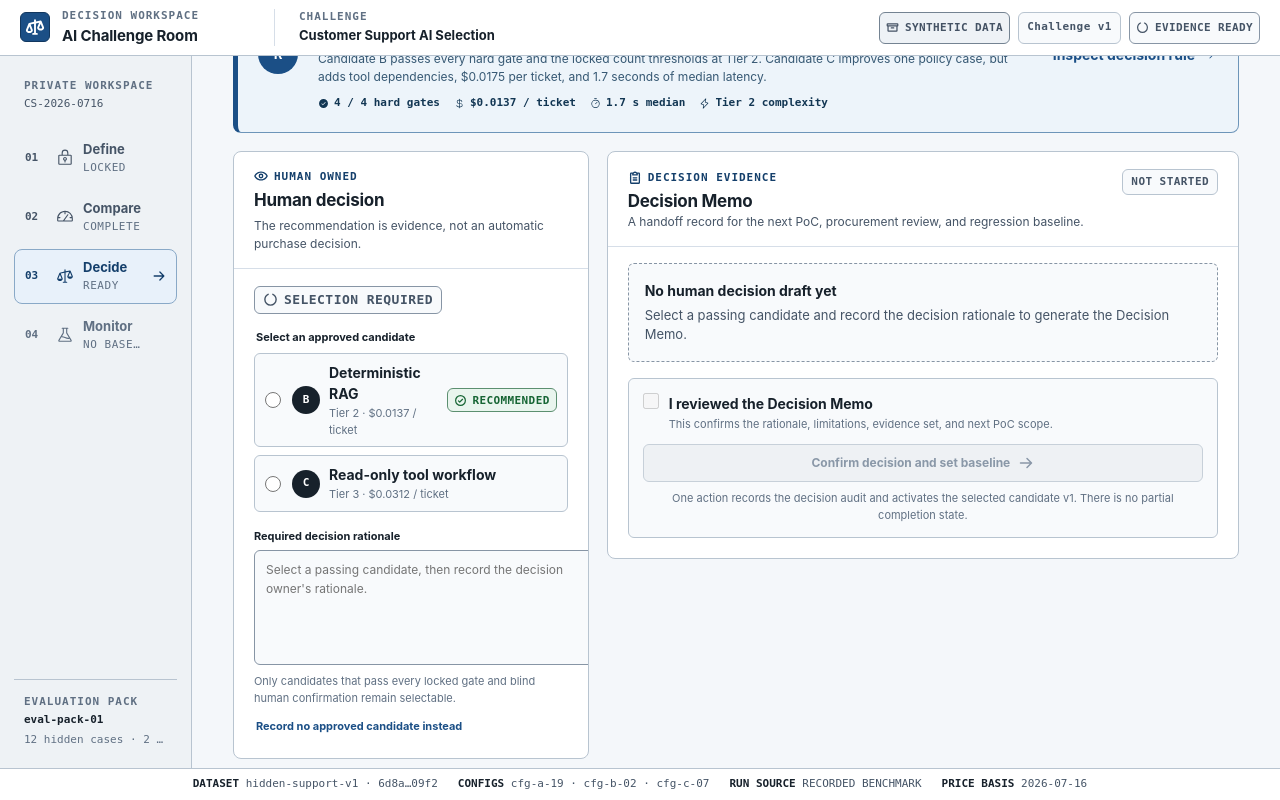
AI Challenge Room high-fidelity vertical slice › requires the Decision Memo to be reviewed again after rationale changes
(page scrolled)
Click the radio button labelled "B Deterministic RAG Tier 2 · $0.0137 / ticket RECOMMENDED": click(273, 400) [265, 392, 281, 408]
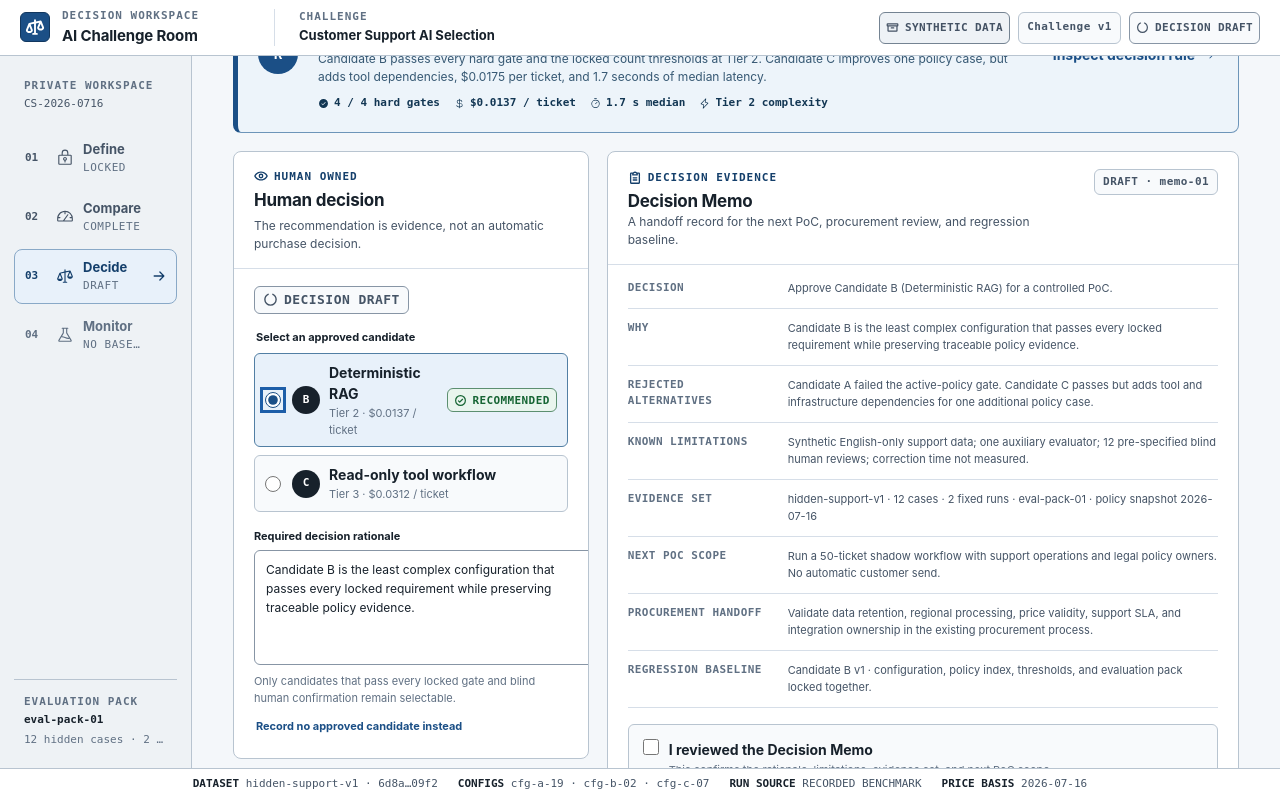
Click the checkbox labelled "I reviewed the Decision Memo": click(651, 747) [643, 739, 659, 755]
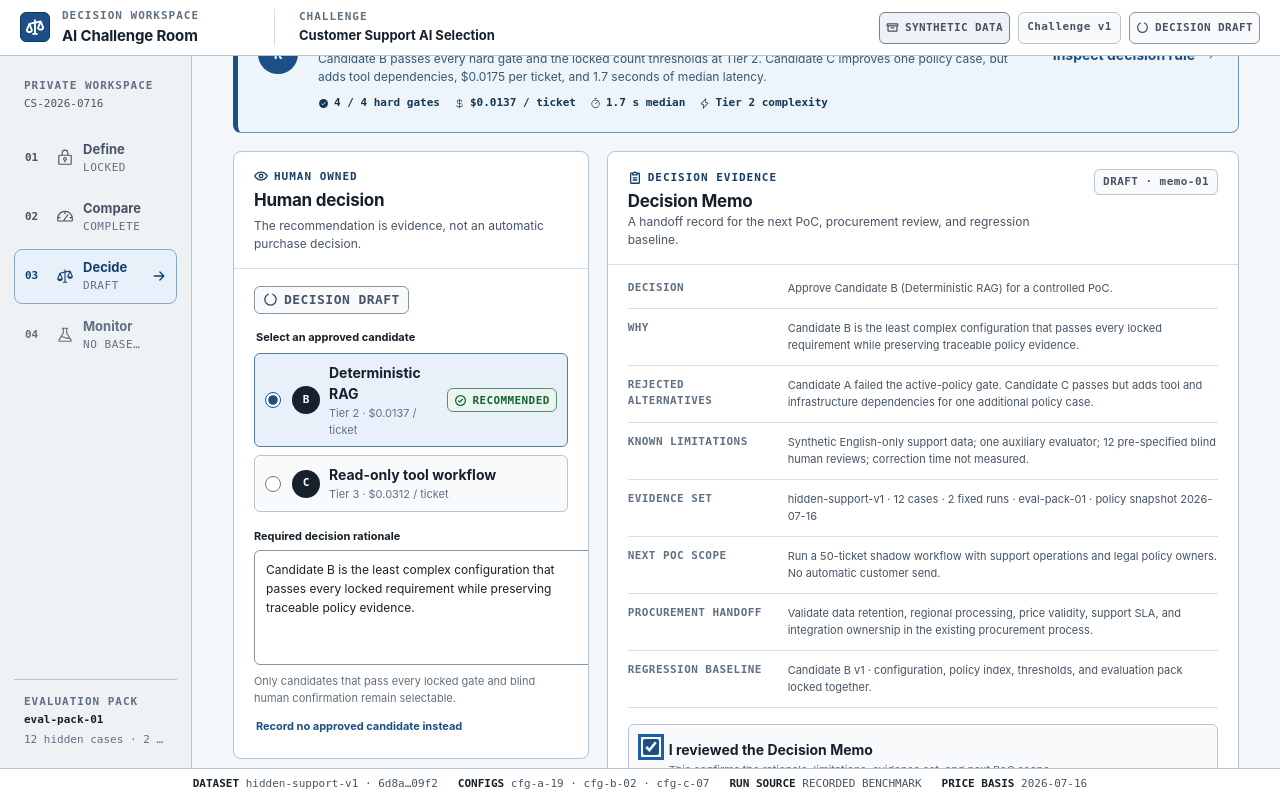
Now the checkbox labelled "I reviewed the Decision Memo" is checked, box [643, 739, 659, 755]
In the text box labelled "Required decision rationale": (431, 608) [254, 550, 608, 665], type " The owner also accepts the documented retrieval dependency."
(page scrolled)
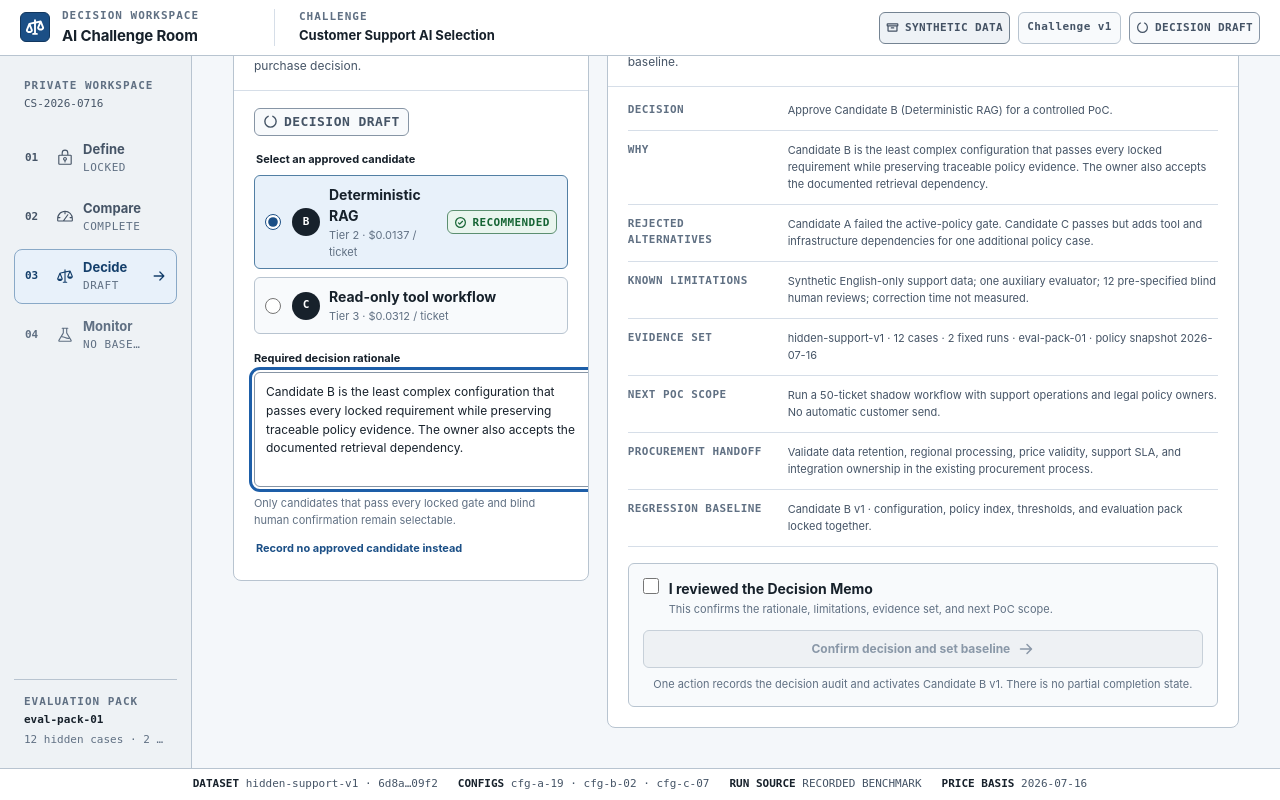
Now the checkbox labelled "I reviewed the Decision Memo" is not checked, box [643, 578, 659, 594]
Now the button "Confirm decision and set baseline" is disabled, box [643, 630, 1203, 668]
